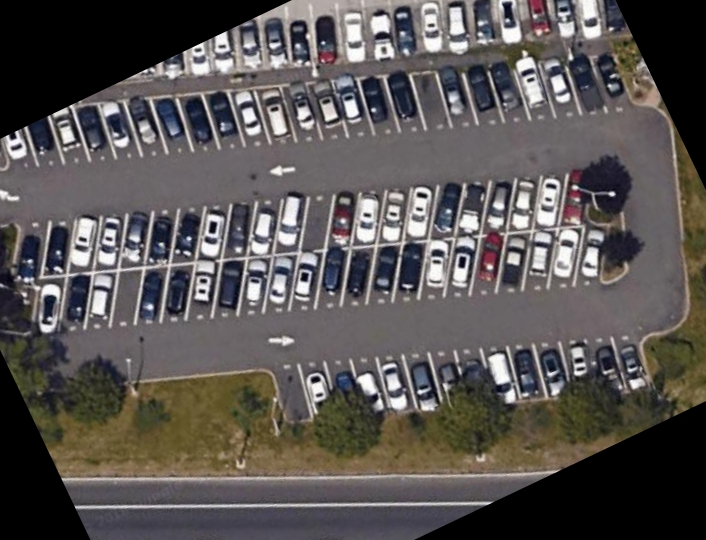parkingspot: (9, 160, 613, 341), (0, 48, 643, 173), (115, 0, 632, 85), (265, 332, 658, 426)
